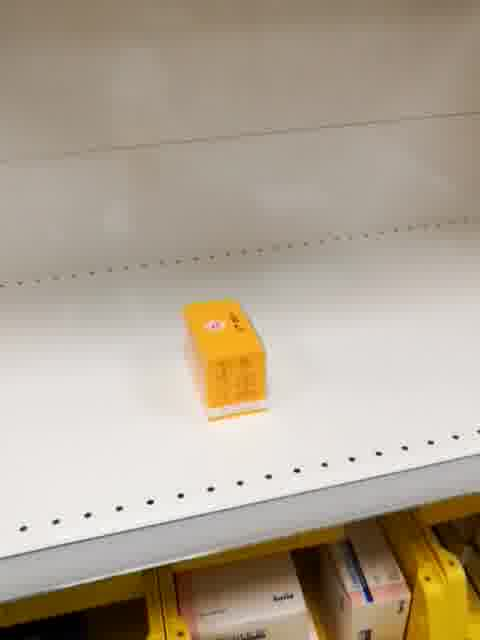jasminetea: (183, 299, 268, 421)
